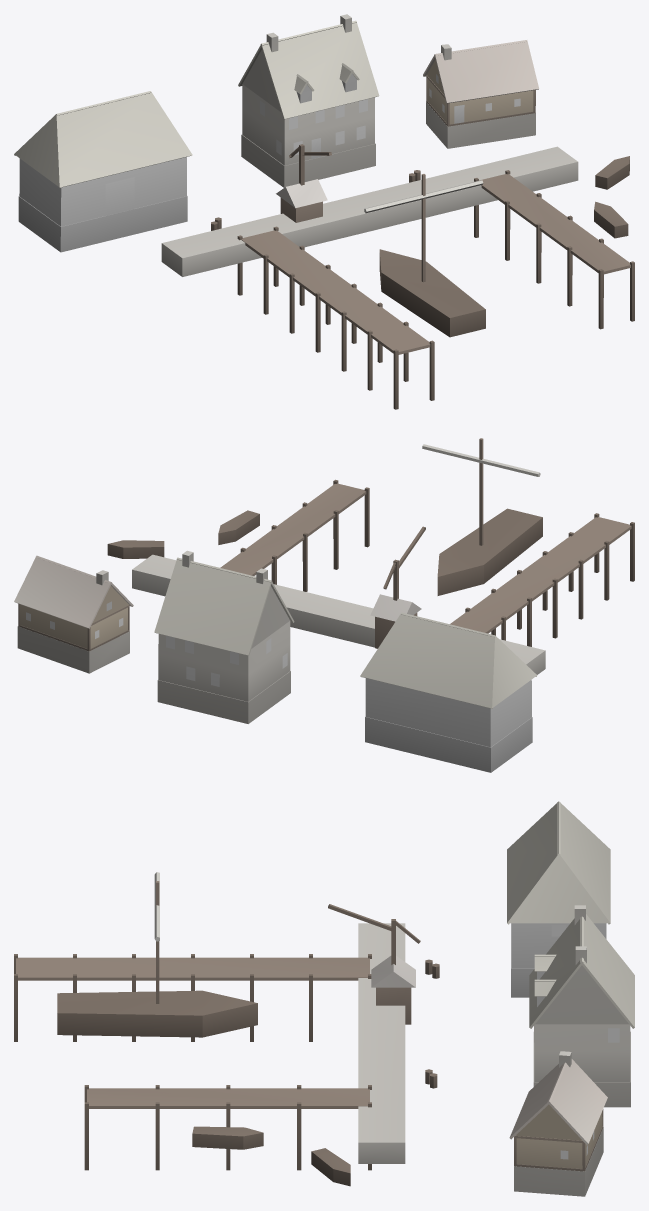
The model's file is port_2.glb.
3 renders of one model, top to bottom at view 1: azimuth 30°, elevation 25°; view 2: azimuth 150°, elevation 25°; view 3: azimuth 270°, elevation 25°, orthographic. The views are drawn at different scales.
Parts seen in each view (by area): view 1: port_2; view 2: port_2; view 3: port_2.
Boxes of the visible parts, bbox=[...] form: port_2: bbox=[14, 14, 634, 409]; port_2: bbox=[14, 438, 634, 772]; port_2: bbox=[14, 801, 634, 1196].
Bounding box in the file's own units: 55.75 × 17.7 × 52.64.
